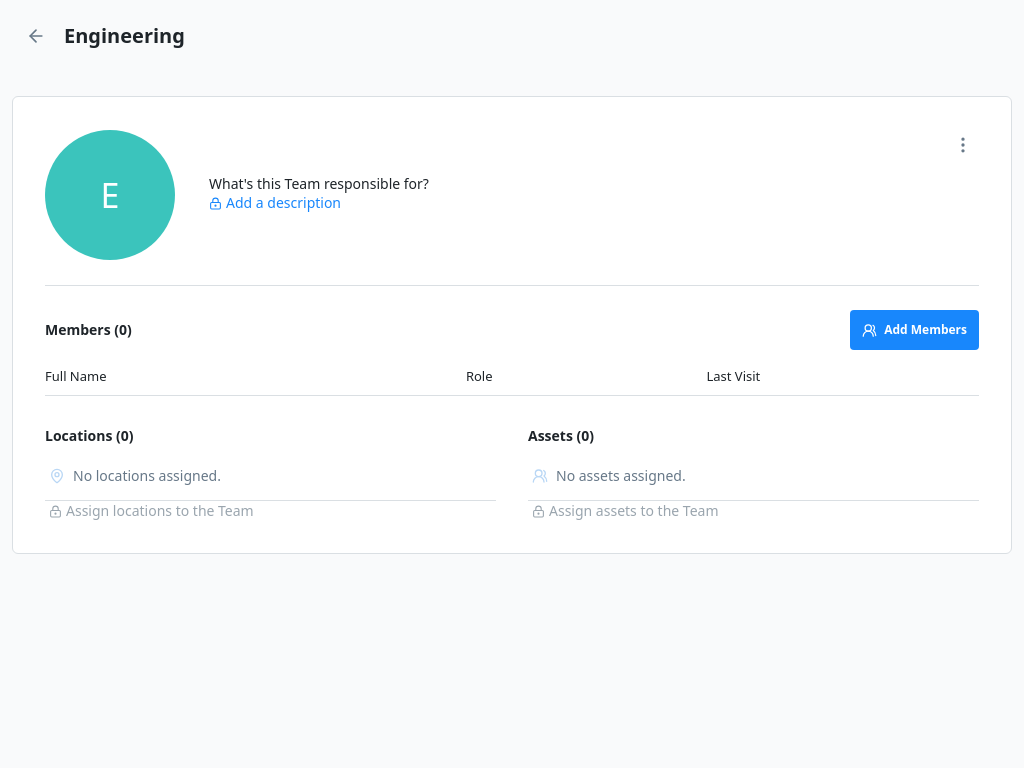
Test: TeamDetailsPage › allows a missing team description to be added inline
Step 1. Click the button "Add a description" → (275, 203), box [209,195,341,212]
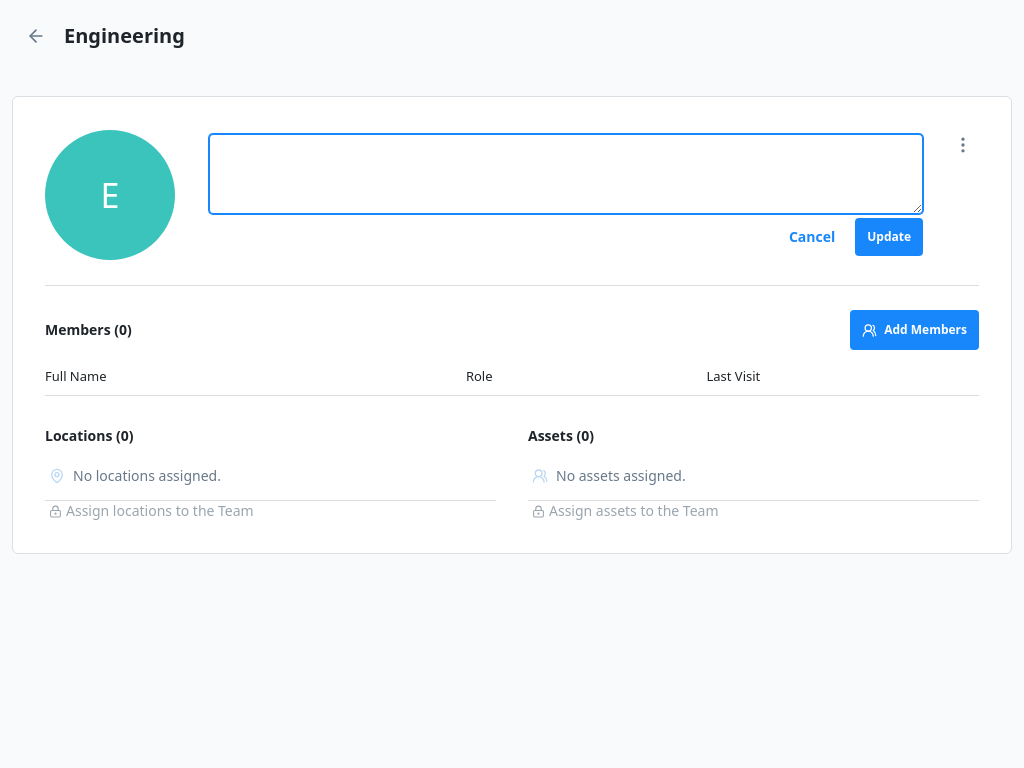
Step 2. Type "New team description." into the text box named "Team description" → (566, 174), box [209,134,923,214]
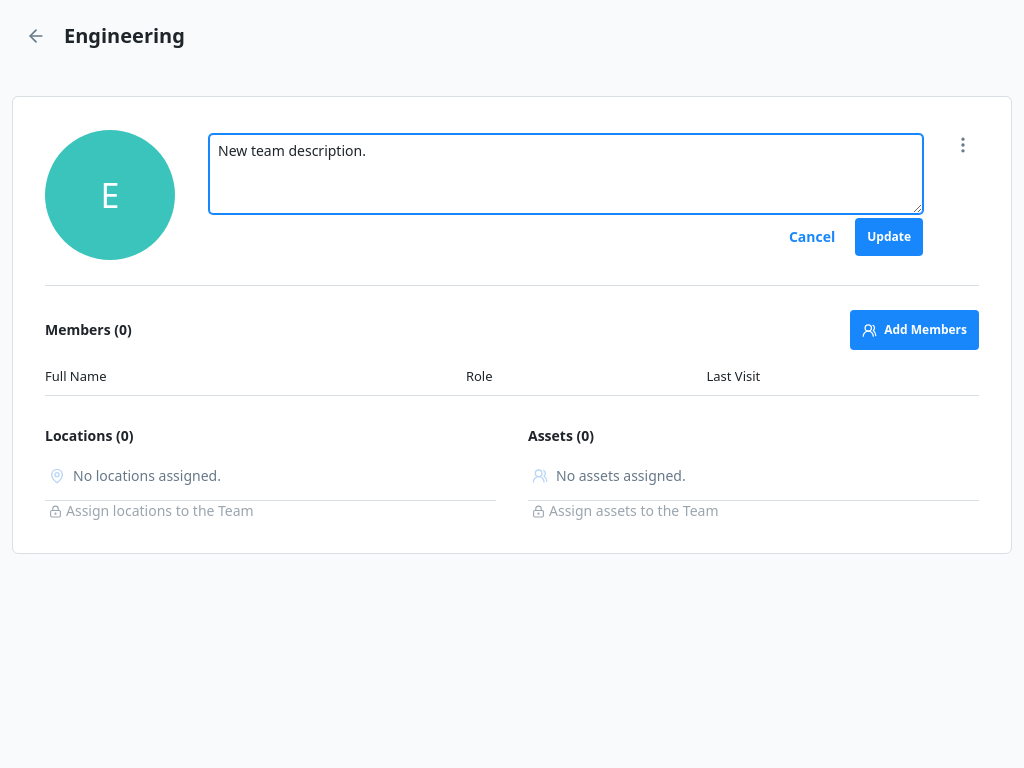
Step 3. Click the button "Update" → (889, 237), box [855,218,923,256]
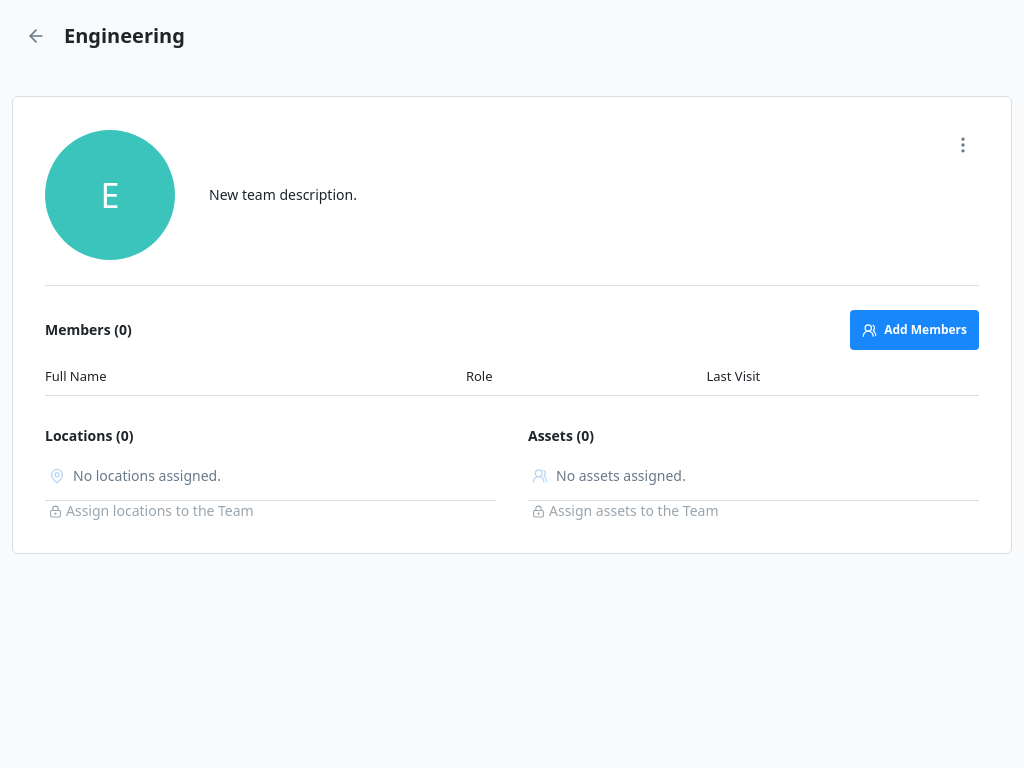
Now the text "New team description." is shown, box [209,185,357,204]
